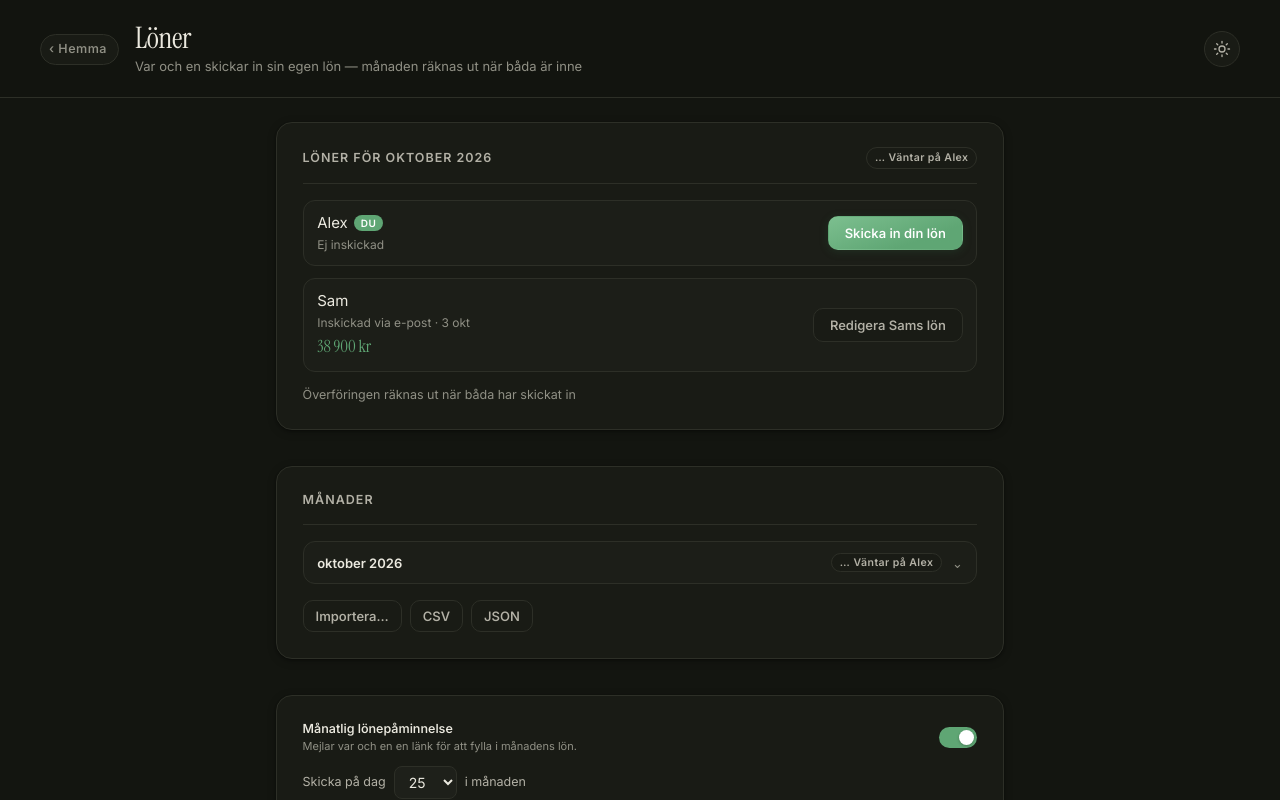
An emailed draft › on a conflict keeps the editor open with the inputs and offers to reload
This screenshot has width=1280, height=800.
Click the button "Redigera Sams lön" at coordinates (888, 325), box [813, 308, 963, 342]
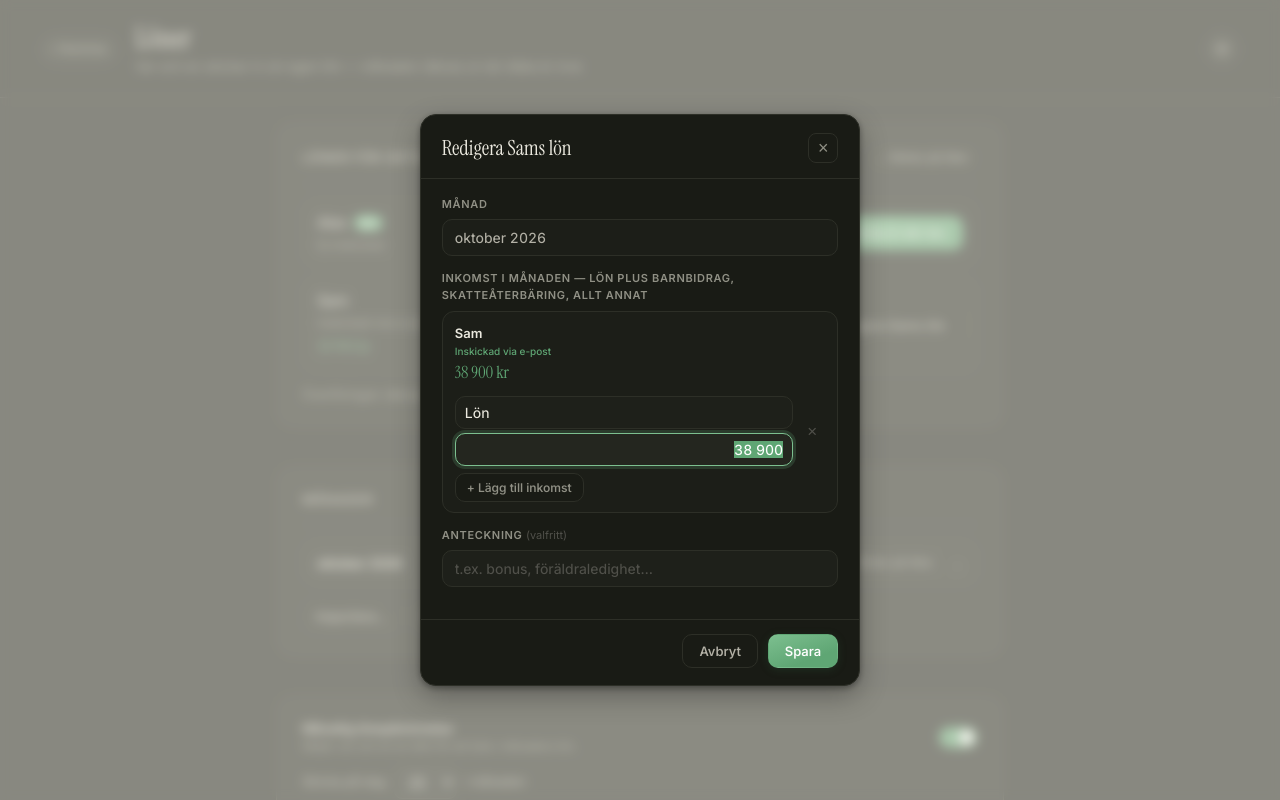
Replace the text in the field named "Belopp, kr" with "40000" at coordinates (624, 450), box [455, 433, 793, 466]
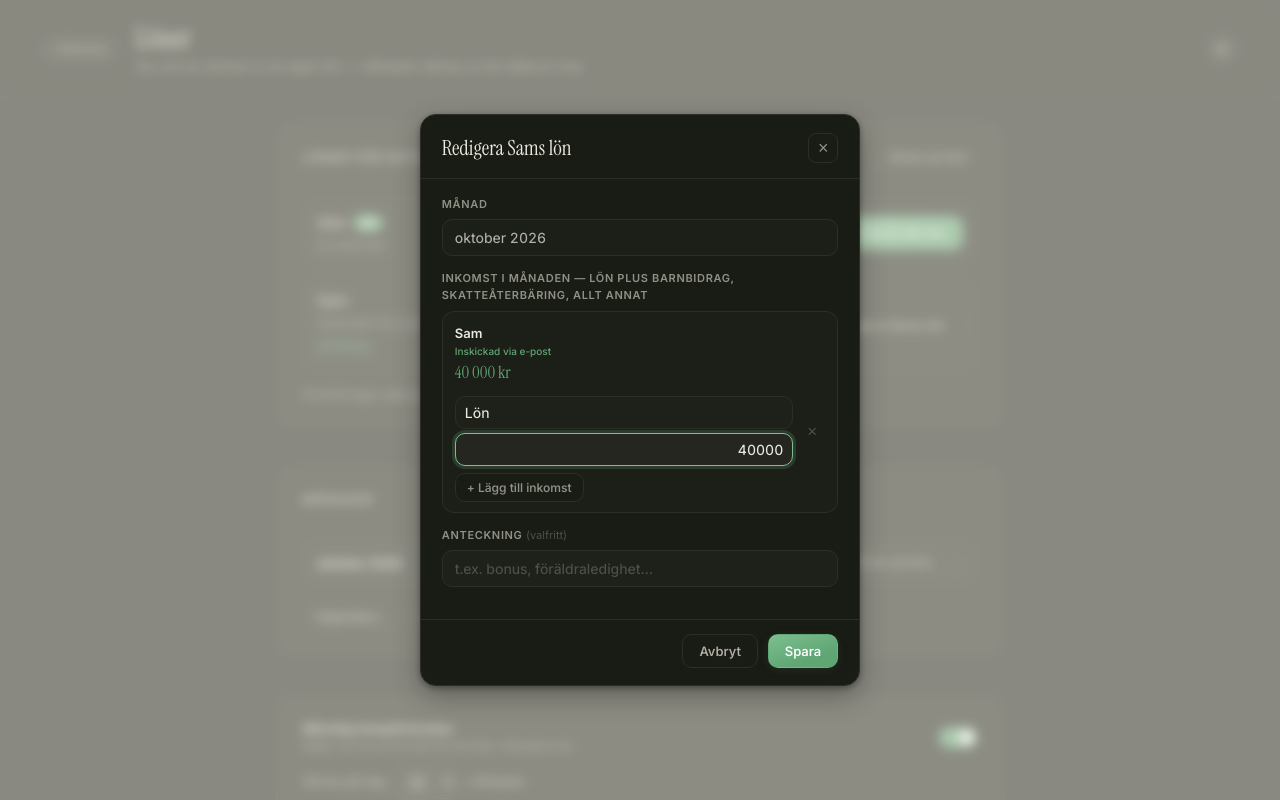
Click the button "Spara" at coordinates (803, 651), box [768, 634, 838, 668]
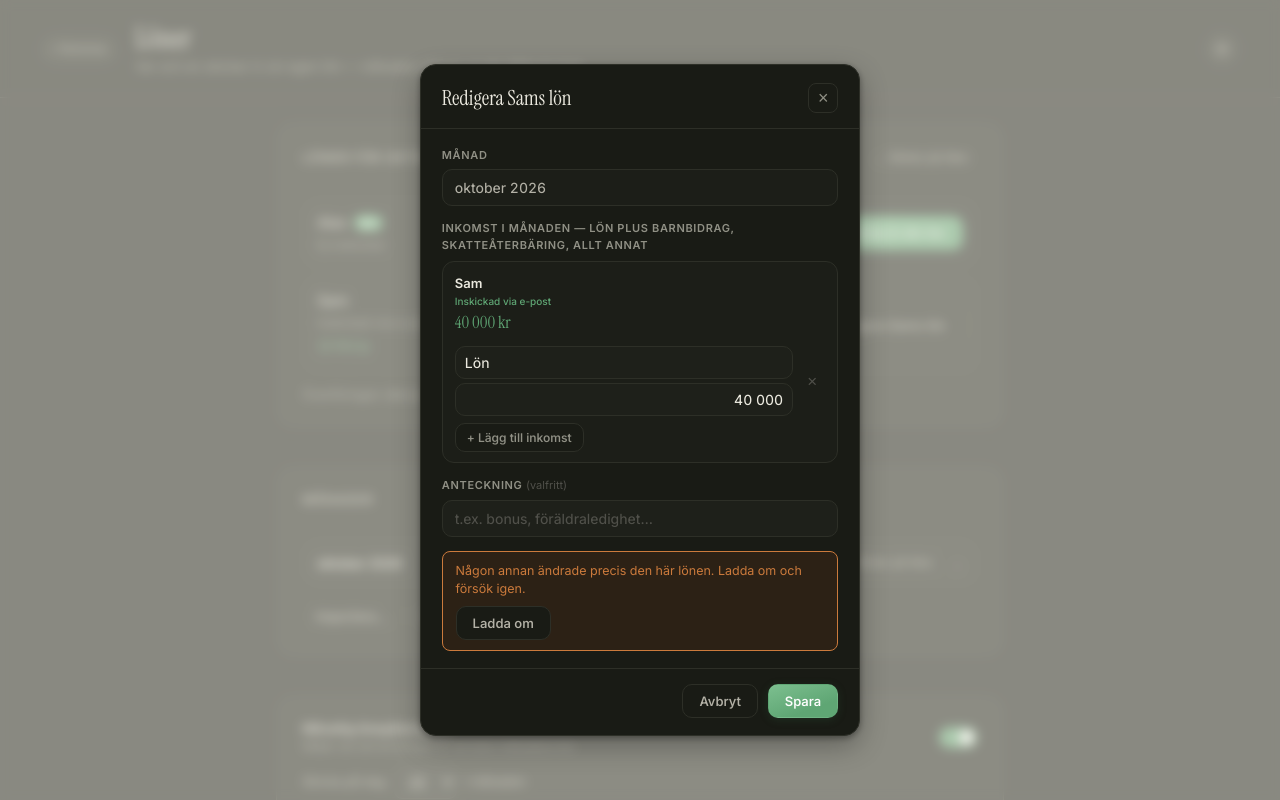
Now the message shows "Någon annan ändrade precis den här lönen. Ladda om och försök igen.", box [456, 563, 802, 596]
Now the field named "Belopp, kr" holds "40 000", box [455, 383, 793, 416]
Click the button "Ladda om" at coordinates (503, 623), box [456, 606, 551, 640]
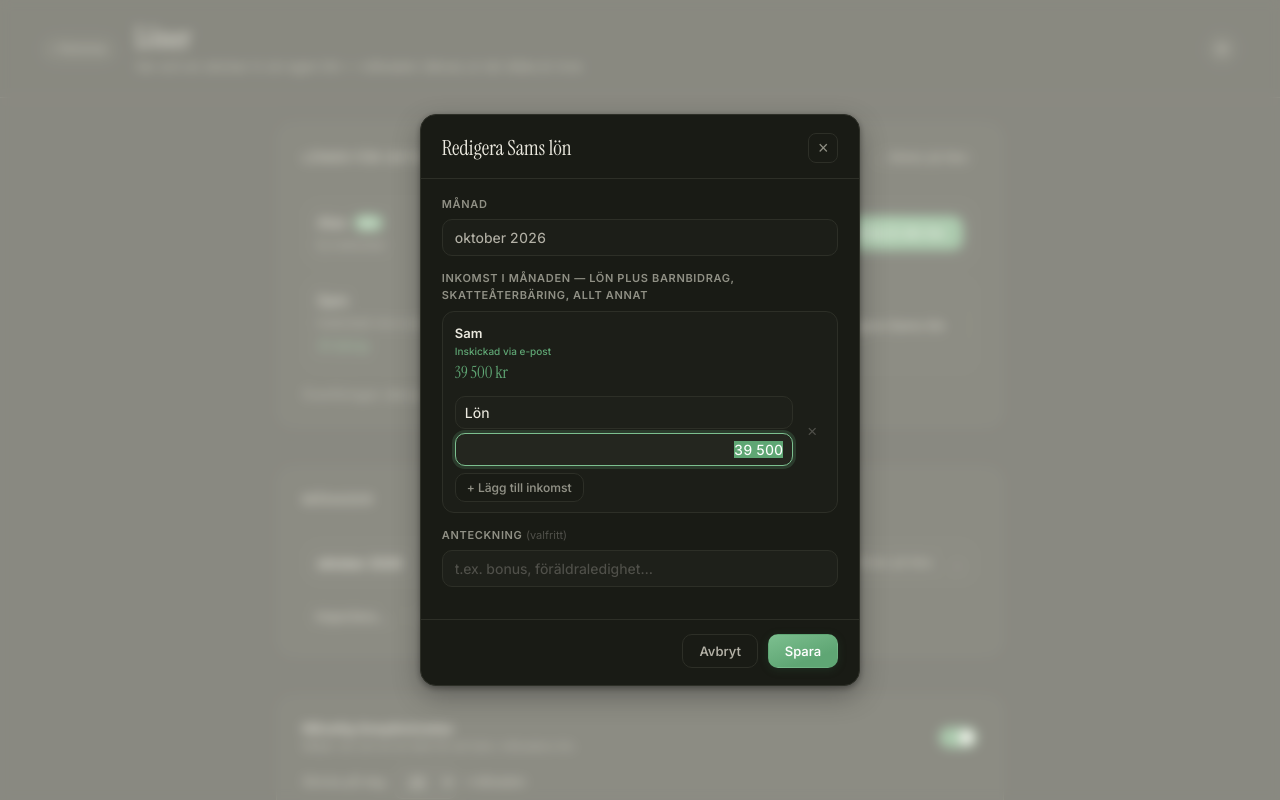
Now the field named "Belopp, kr" holds "39 500", box [455, 433, 793, 466]
Now the message "Någon annan ändrade precis den här lönen. Ladda om och försök igen. Ladda om" is gone
